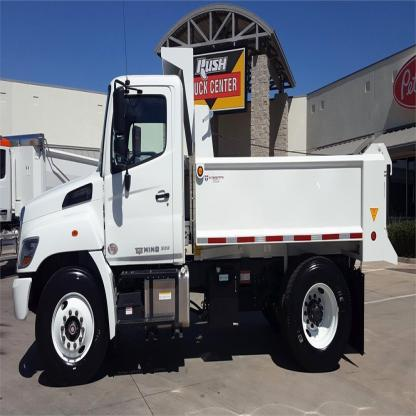dump_truck: (11, 60, 403, 398)
